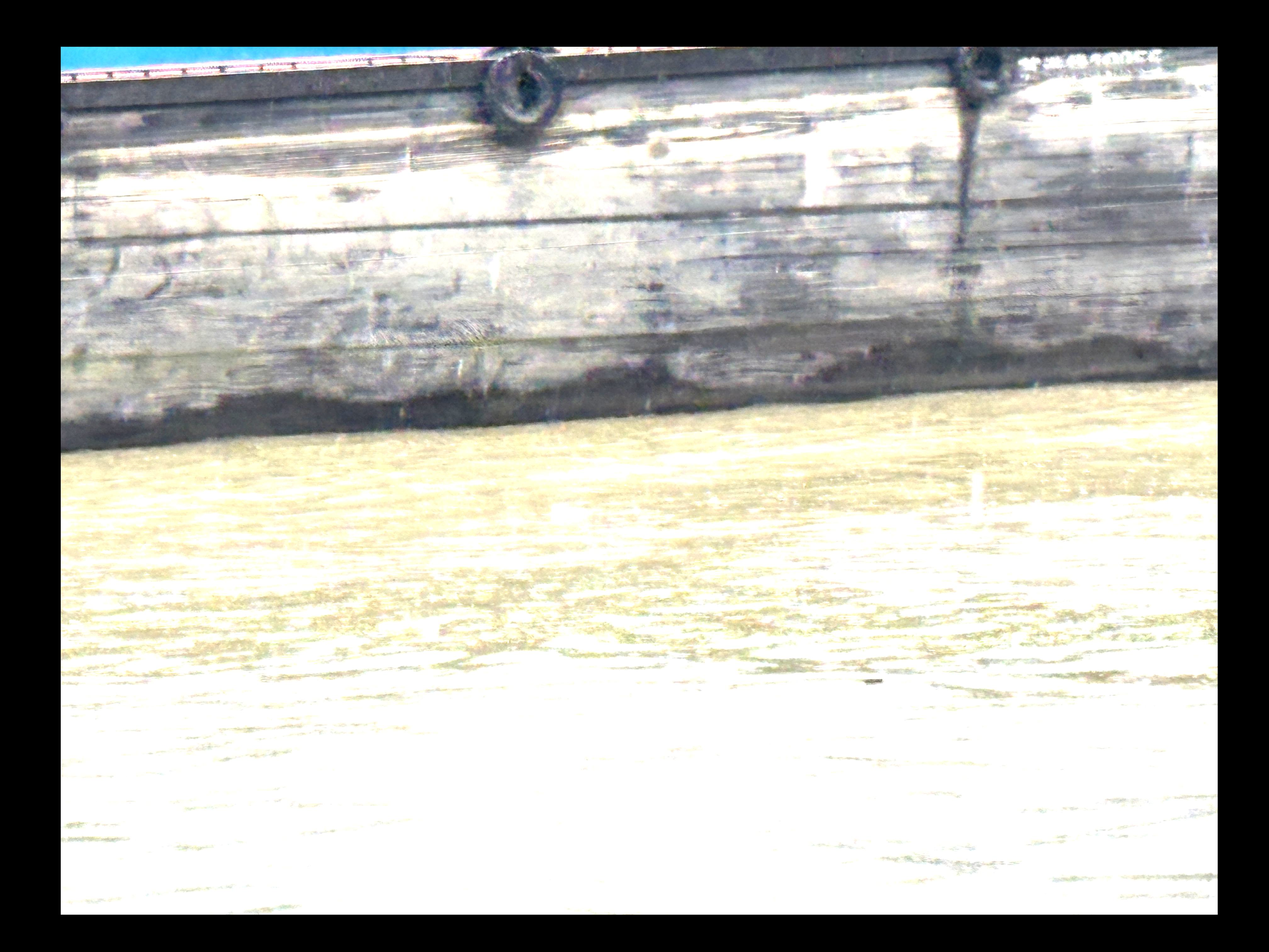Plastic wastes: (377, 618, 442, 634), (549, 500, 590, 516), (859, 671, 883, 686)
